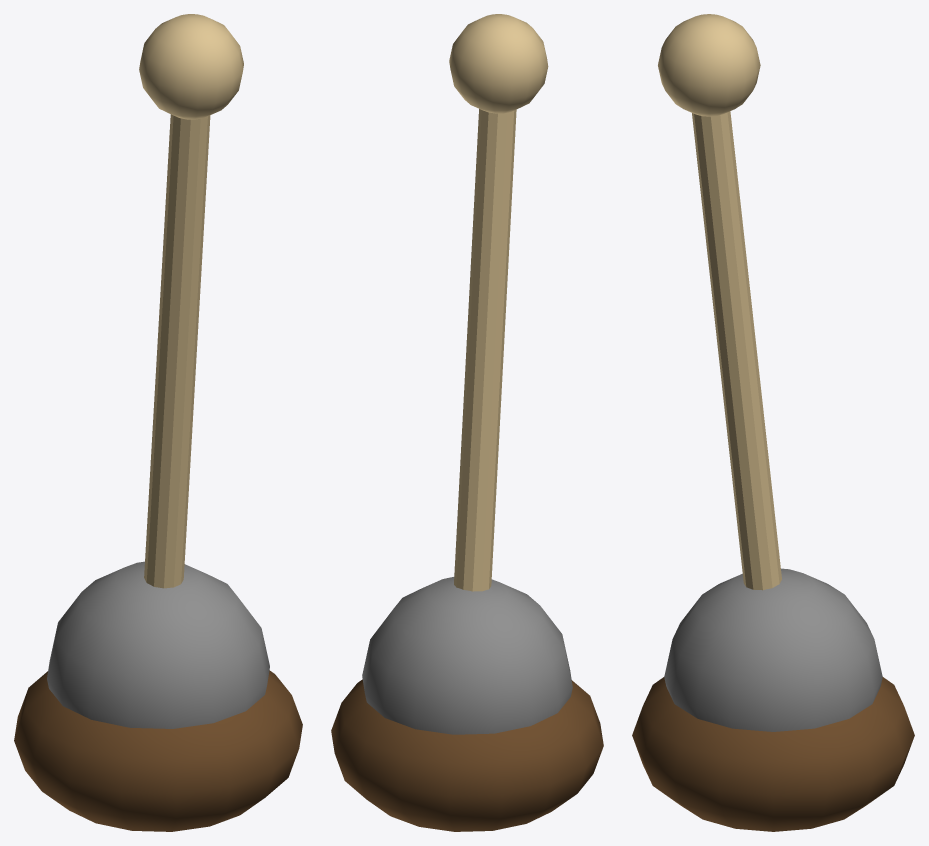
3 views of the same model, side by side, from view 1: azimuth 30°, elevation 25°; view 2: azimuth 150°, elevation 25°; view 3: azimuth 270°, elevation 25° (orthographic). The views are drawn at different scales.
Visible parts, largest first — view 1: W02; view 2: W02; view 3: W02.
Boxes of the visible parts, box(x1,y1,x2,y2) form: W02: box(14, 14, 302, 831); W02: box(331, 14, 603, 831); W02: box(632, 14, 914, 831).
Bounding box in the file's own units: 0.44 × 1.36 × 0.44.
1 material, 1 textured.
